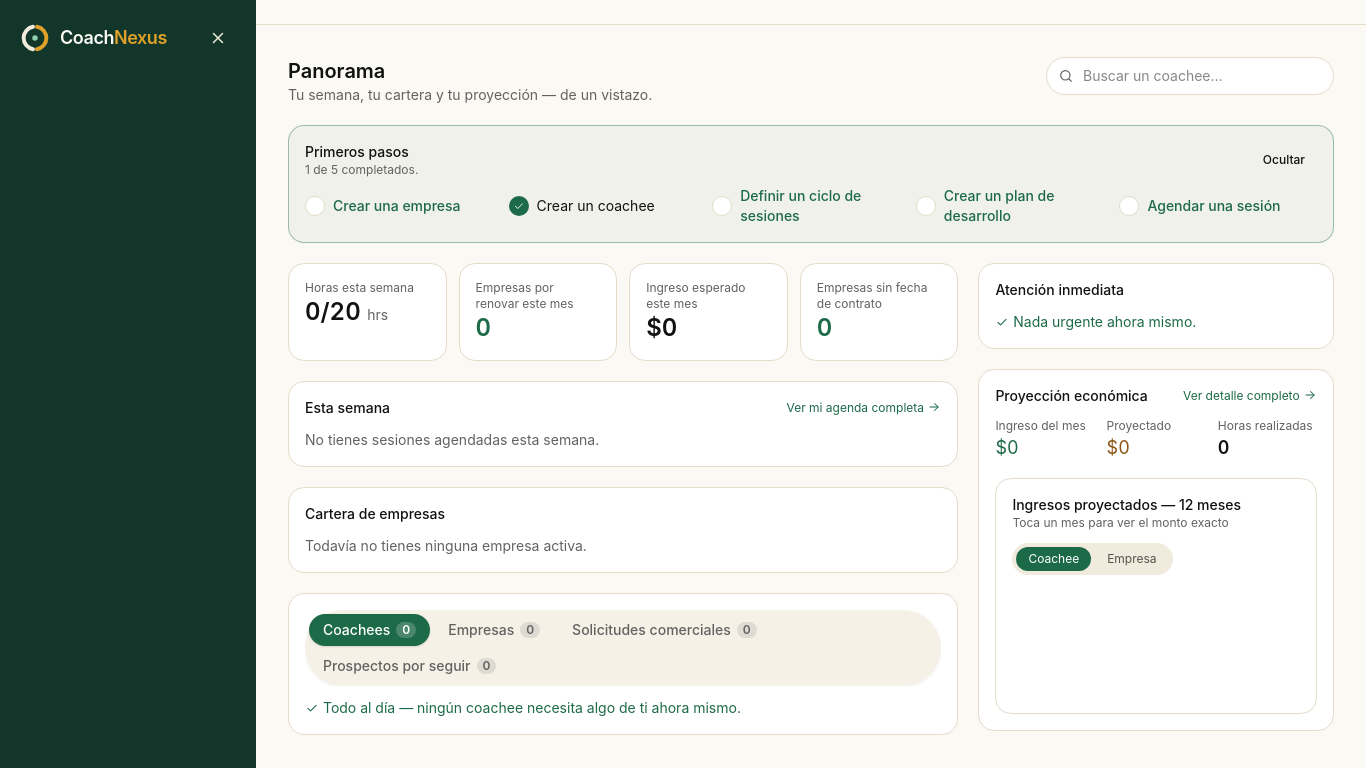
Test: DashboardView › Prospectos por seguir tab › does not list a prospecto whose próximo seguimiento is in the future
The image size is (1366, 768).
Click the tab "Prospectos por seguir 0". click: (410, 666)
box: [309, 650, 510, 682]
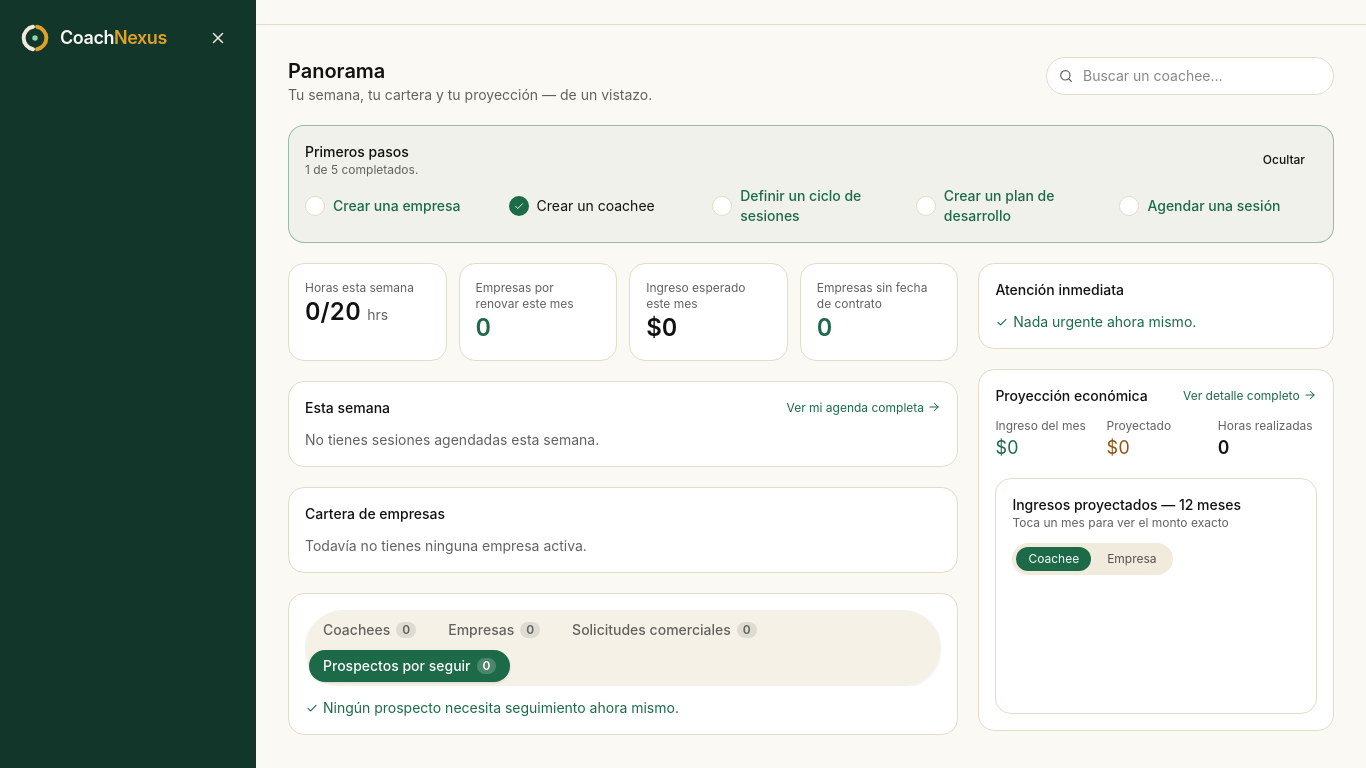
Expected: the text "Ningún prospecto necesita seguimiento ahora mismo." is shown, [305, 699, 679, 716]
